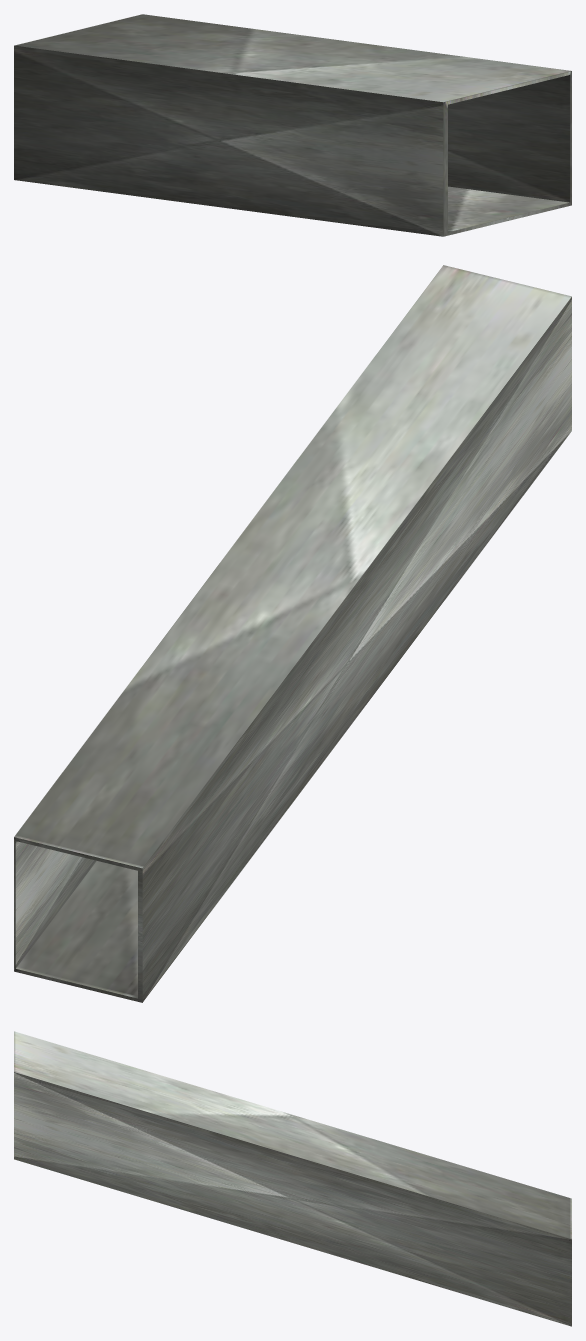
The model's file is vents_ramp3.fbx.
3 views of the same model, one above another, from view 1: azimuth 30°, elevation 25°; view 2: azimuth 150°, elevation 25°; view 3: azimuth 270°, elevation 25° (orthographic). The views are drawn at different scales.
Parts seen in each view (by area): view 1: Vent1_023; view 2: Vent1_023; view 3: Vent1_023.
Boxes of the visible parts, x1,y1,x2,y2 form: Vent1_023: (14,14,571,236); Vent1_023: (14,265,571,1002); Vent1_023: (14,1031,571,1326).
Size of the model in its own units: 100 by 292 by 579.
